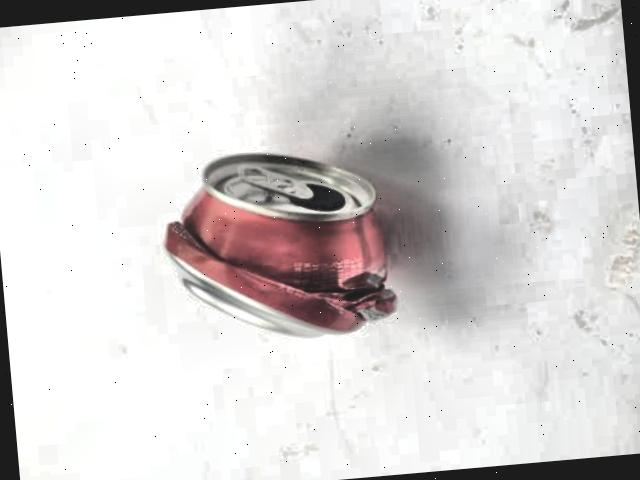Bottles: (92, 97, 445, 396)
